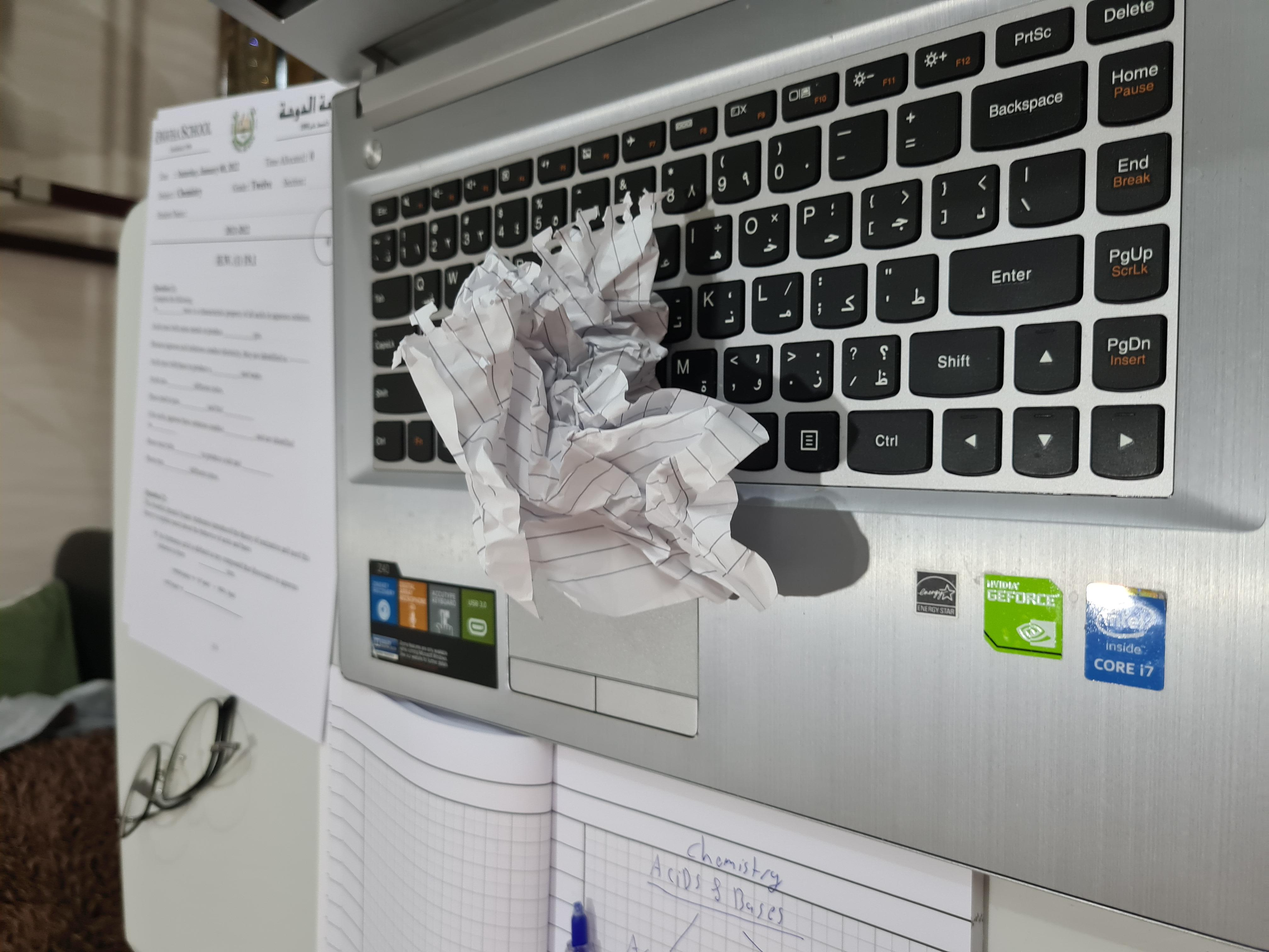paper: (467, 293, 979, 565)
